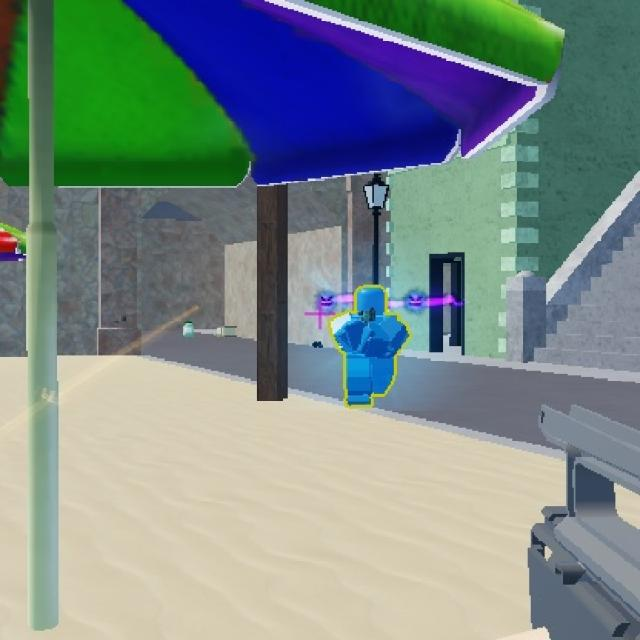player: (328, 279, 407, 412)
